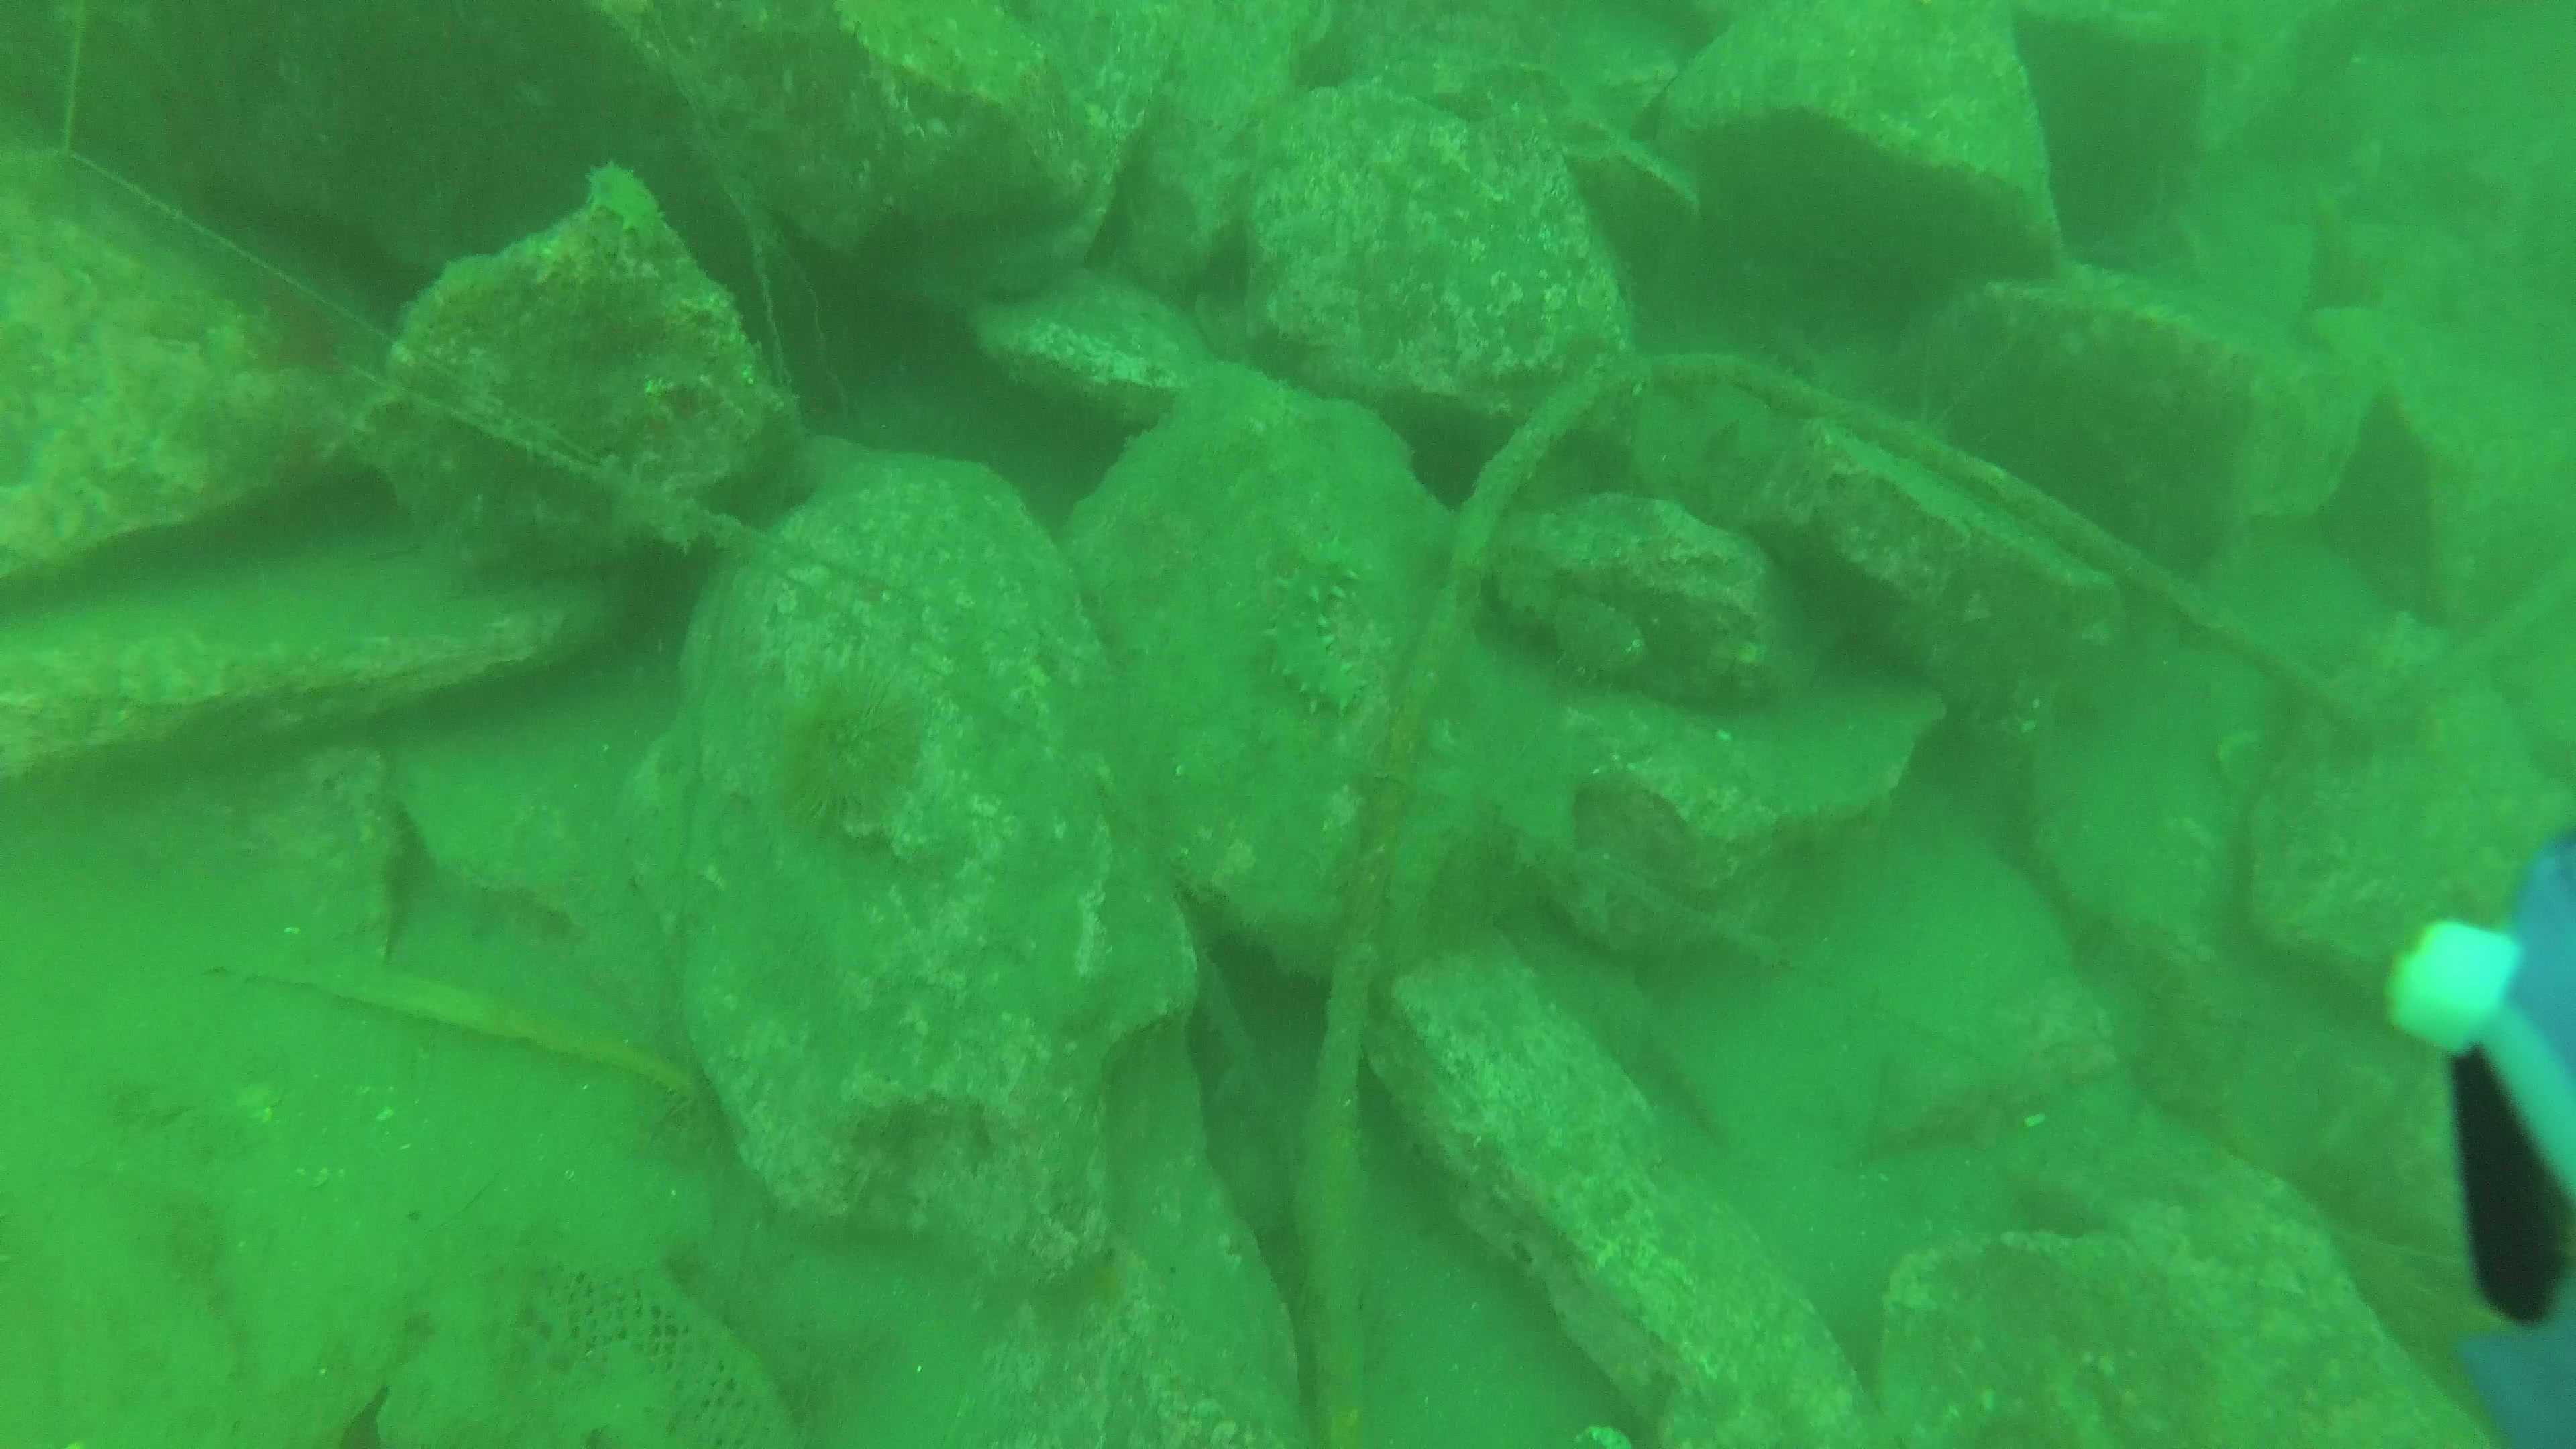echinus: (768, 667, 948, 844)
holothurian: (1258, 525, 1375, 725), (580, 152, 672, 257)
